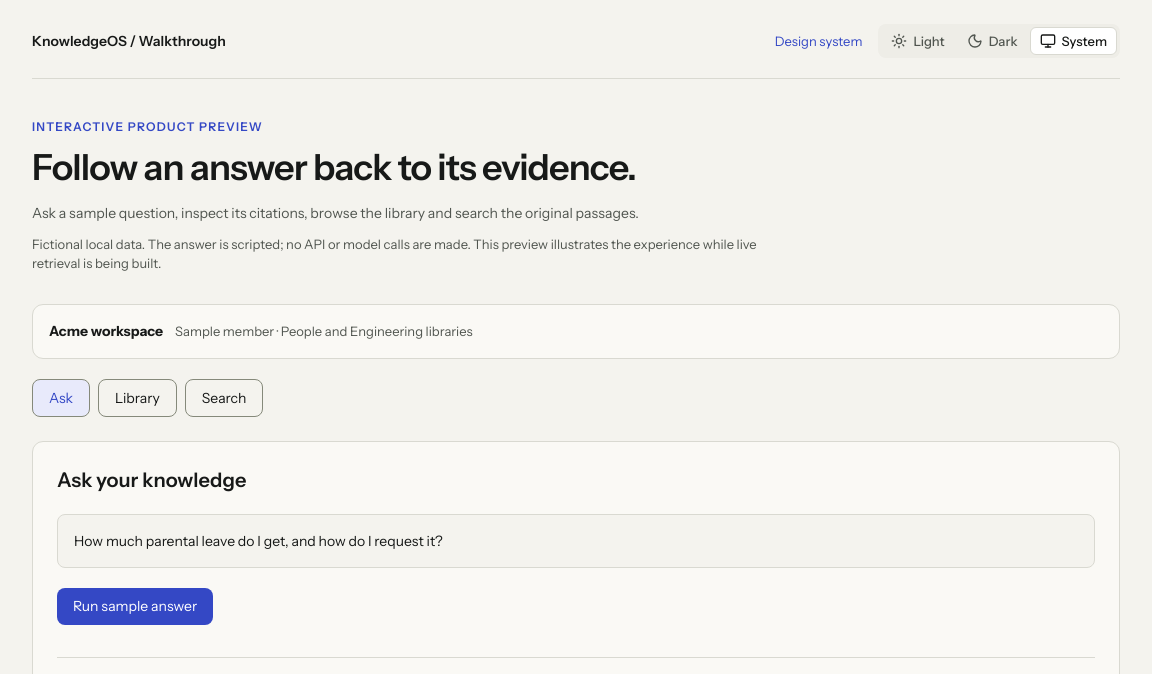
Test case: demo walkthrough › filters sample passages and reports an empty search
Click the button "Search": (224, 398) [185,379,264,417]
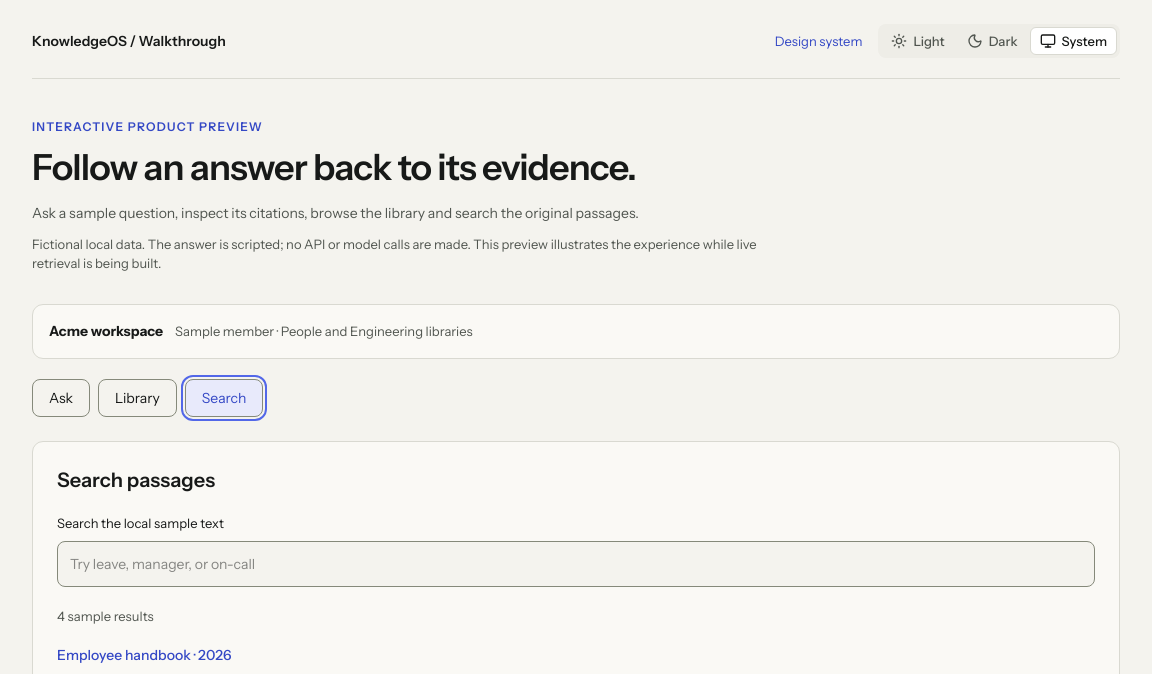
In the search field: (576, 564) [57,541,1095,587], type "on-call"
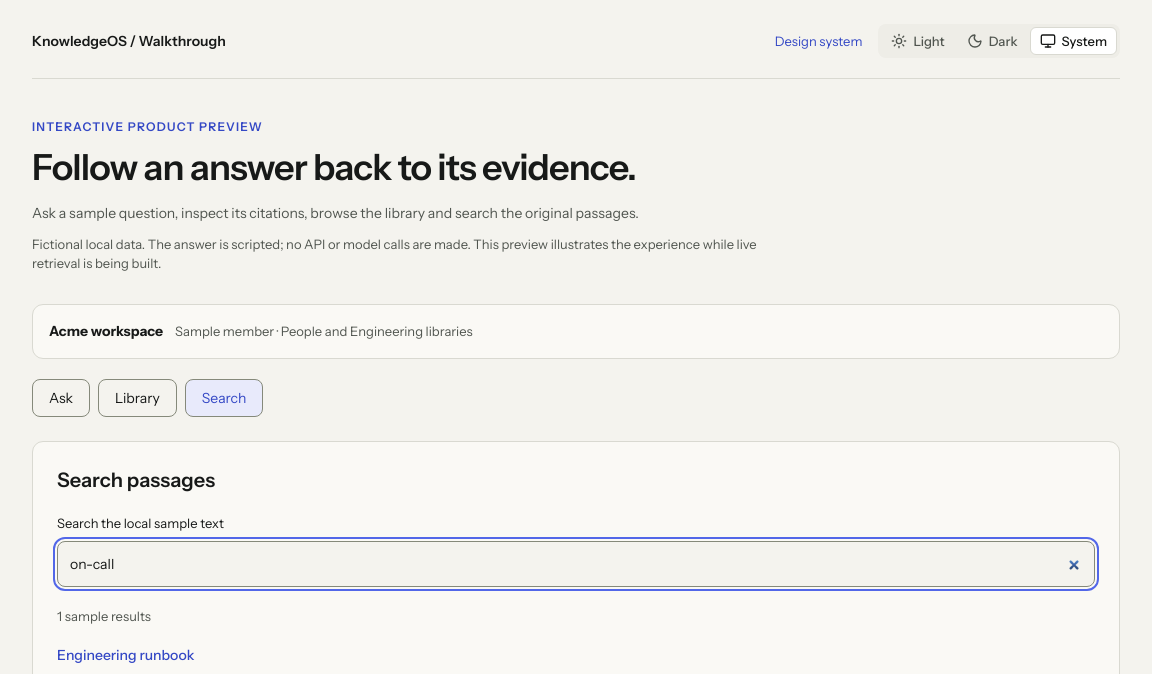
Check: the button "Engineering runbook" is shown, box [57,645,194,666]
Check: the message reads "1 sample results", box [57,608,151,624]
Replace the text in the search field with "no-match": (576, 564) [57,541,1095,587]
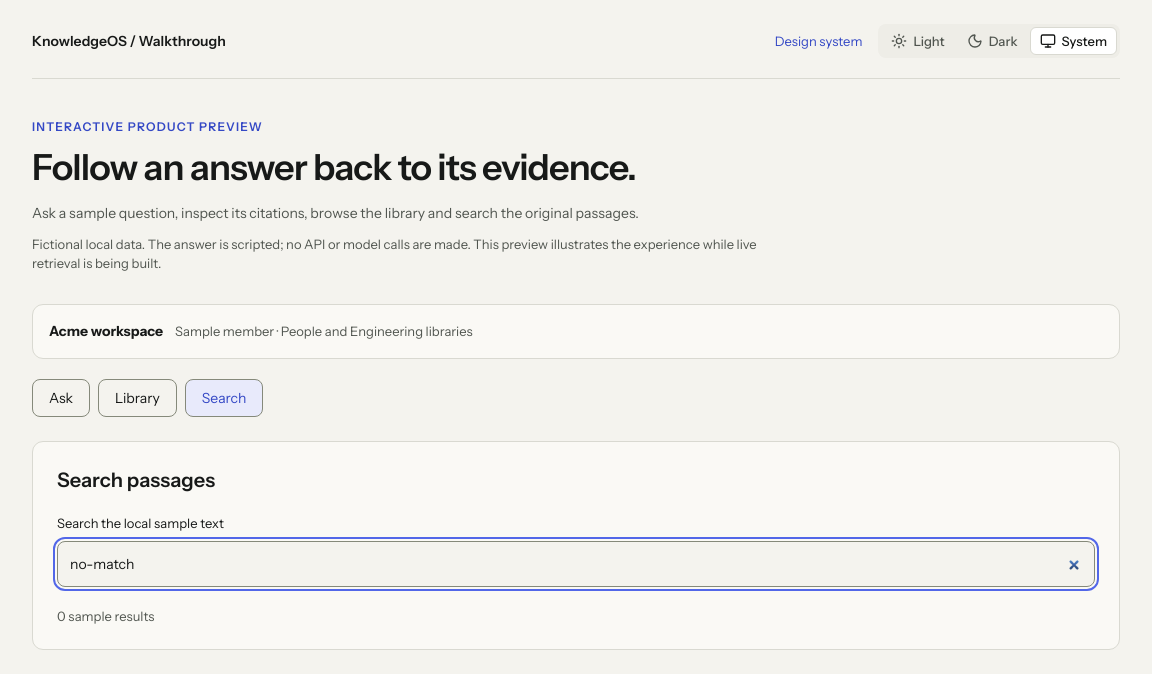
Check: the message reads "0 sample results", box [57,608,154,624]
